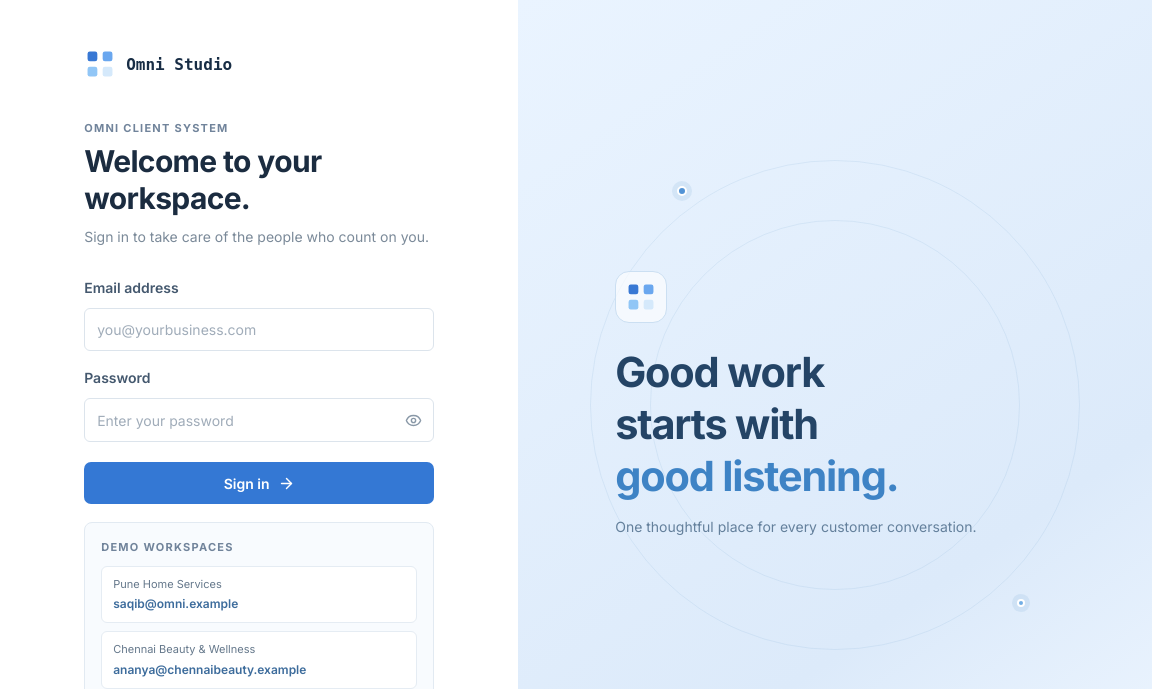
Scenario: Omni Client System › shows a generic message for failed login
Type "saqib@omni.example" into the field labelled "Email address".
click(259, 330); type("saqib@omni.example")  # box 84,308 -> 434,351
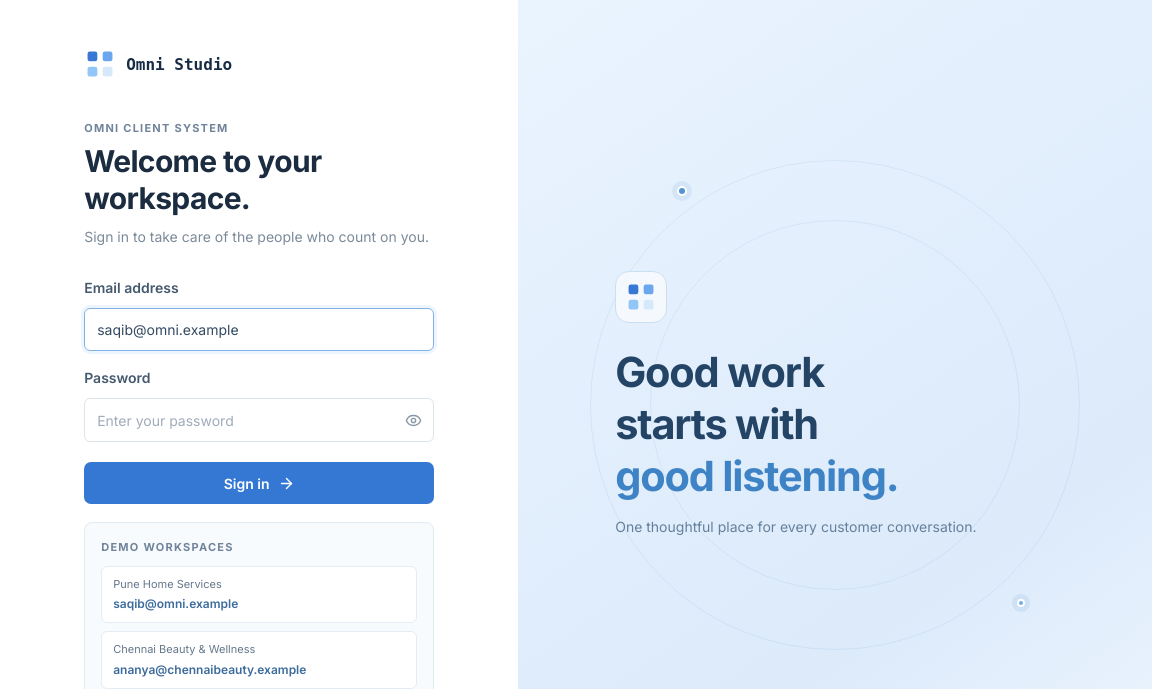
Type "WrongPass123" into the password field labelled "Password".
click(239, 420); type("WrongPass123")  # box 85,399 -> 393,441
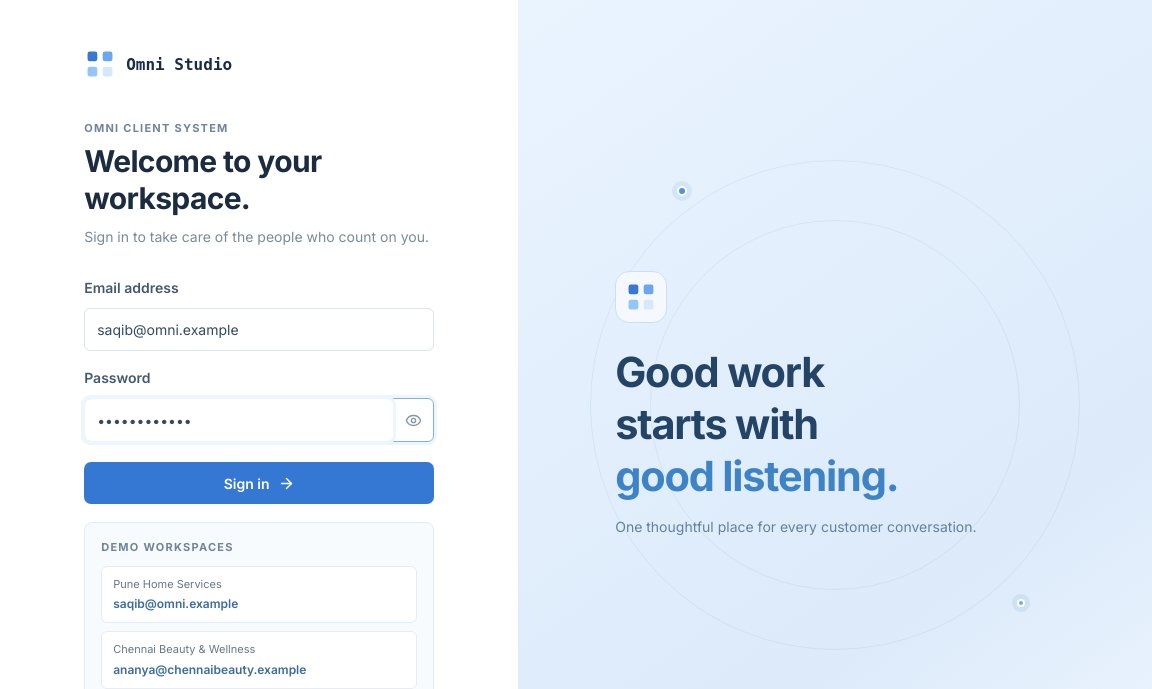
Click the button "Sign in".
click(259, 483)  # box 84,462 -> 434,504
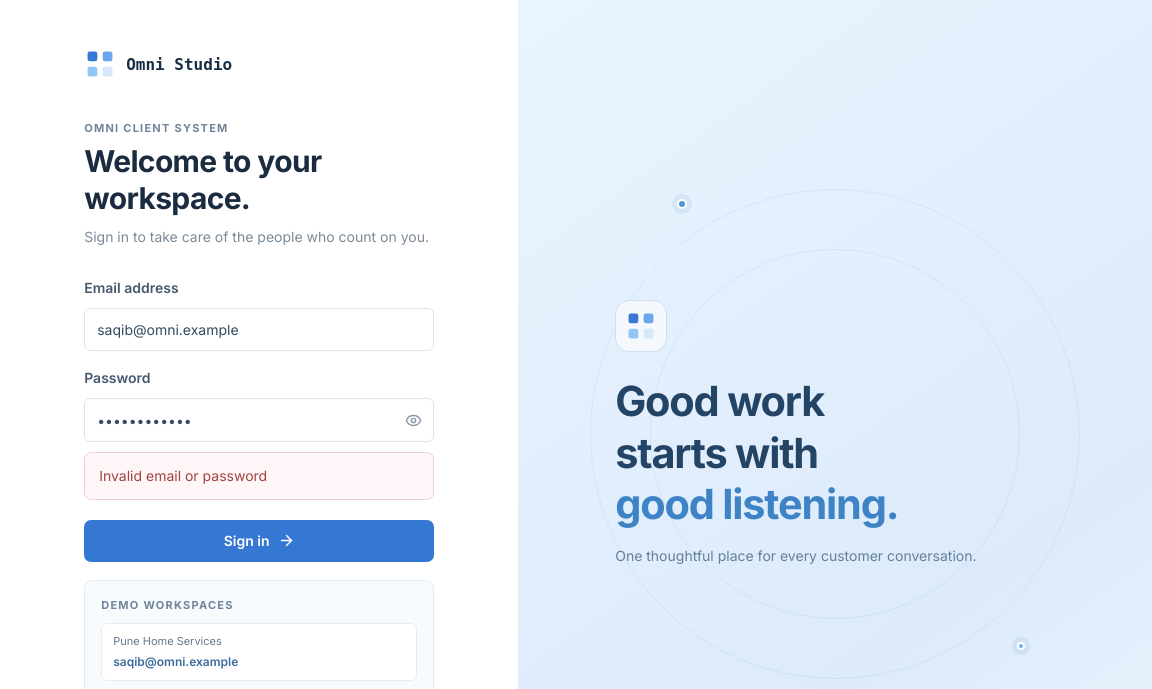
Now the message reads "Invalid email or password", box 99,467 -> 267,484
